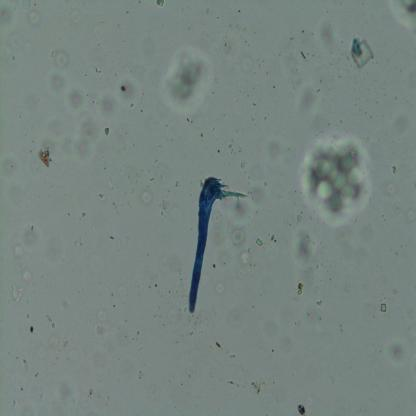Background material: (305, 135, 374, 227), (264, 38, 322, 120), (62, 84, 119, 164), (158, 48, 218, 110), (210, 22, 255, 71), (306, 3, 341, 66), (379, 178, 415, 222), (242, 161, 274, 208), (0, 151, 24, 206), (289, 228, 318, 272), (3, 228, 36, 260), (257, 130, 287, 161), (158, 296, 183, 329), (142, 156, 168, 186), (231, 192, 253, 223), (387, 0, 416, 23), (386, 336, 408, 366), (6, 30, 33, 54), (119, 71, 138, 105), (210, 337, 235, 362), (310, 289, 325, 329), (54, 374, 74, 404), (47, 70, 70, 96), (93, 303, 111, 336), (39, 334, 59, 362), (211, 209, 225, 245), (53, 47, 72, 70), (17, 264, 35, 288), (52, 119, 72, 137), (38, 146, 53, 168), (11, 282, 25, 305), (87, 58, 105, 75), (138, 187, 154, 206), (154, 200, 170, 218), (231, 226, 245, 245), (27, 9, 42, 26), (212, 282, 226, 300), (238, 250, 253, 266), (250, 379, 265, 395), (388, 156, 399, 175), (295, 402, 307, 416), (47, 312, 56, 329), (169, 175, 179, 189), (26, 320, 36, 334), (21, 0, 32, 12), (57, 296, 67, 309), (94, 190, 107, 200), (296, 282, 303, 298), (155, 0, 166, 9), (80, 211, 89, 219), (215, 144, 221, 155)
Cotton: (187, 179, 245, 314)
Salt: (350, 39, 372, 68), (379, 302, 388, 314), (255, 236, 263, 249)
